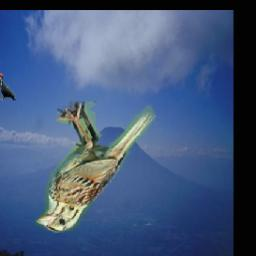Sparrow: (35, 102, 158, 234)
Woodpecker: (0, 72, 17, 100)
